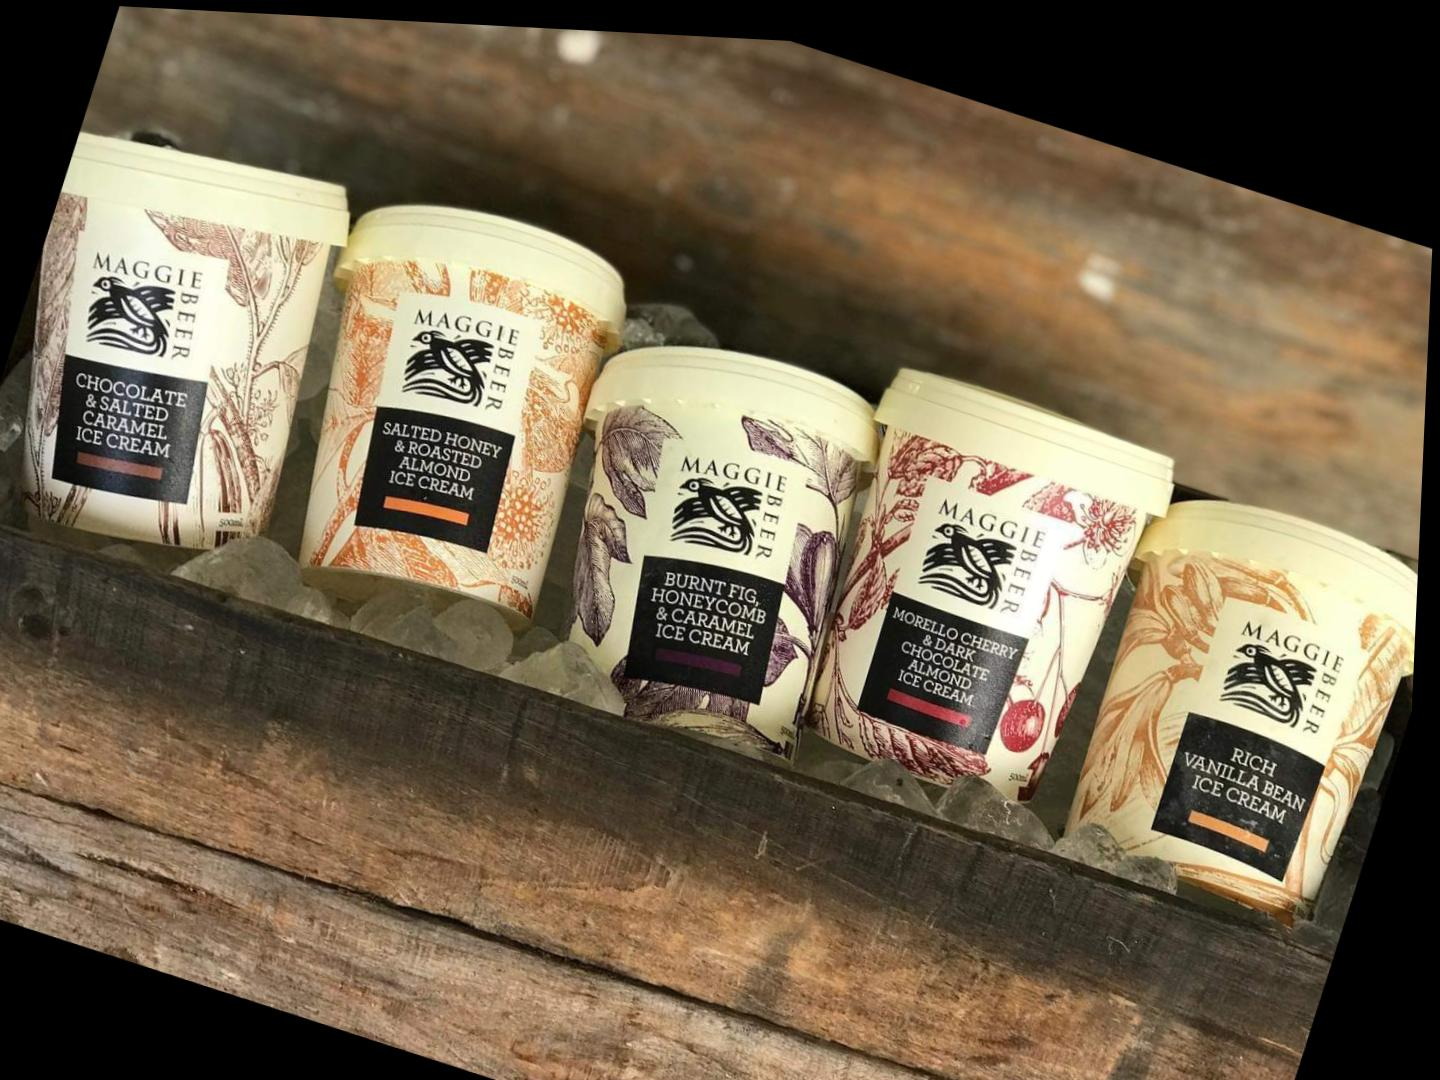plastic: (807, 369, 1172, 798), (1068, 503, 1415, 916), (24, 134, 348, 547), (300, 205, 624, 615), (573, 347, 875, 752)
